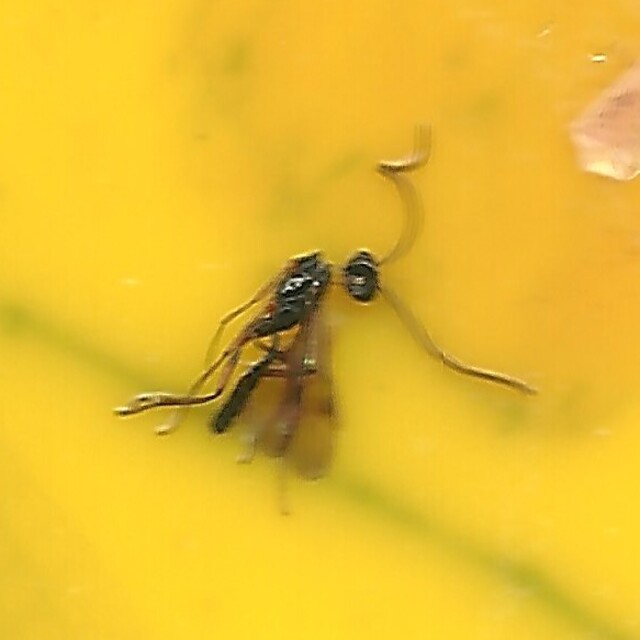Hymenoptera: (110, 129, 530, 511)
